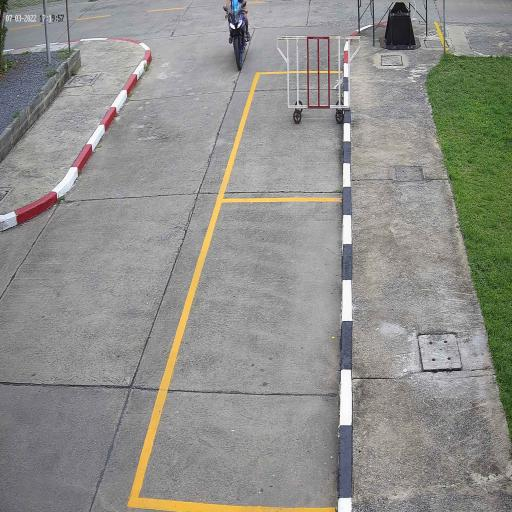motorcycle: (226, 0, 247, 72)
